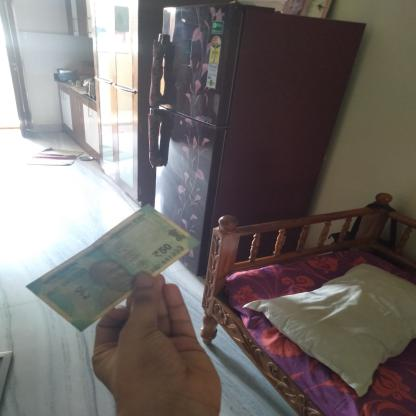New50Front: (40, 209, 178, 315)
